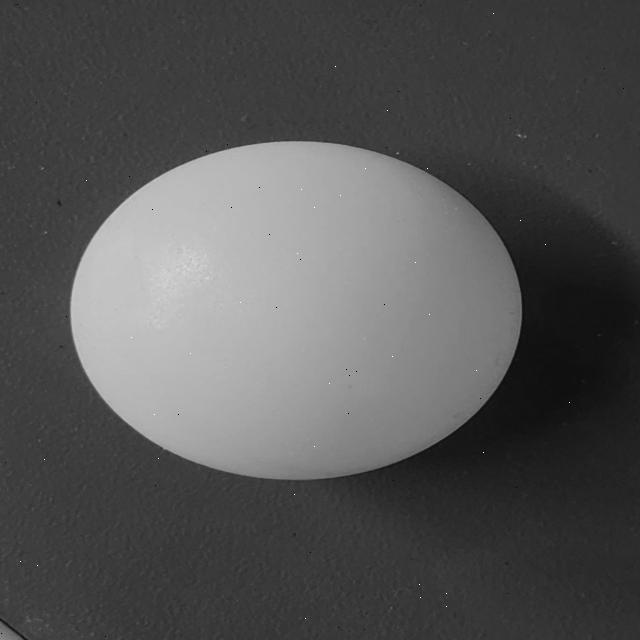ping-pong-ball: (71, 131, 532, 486)
